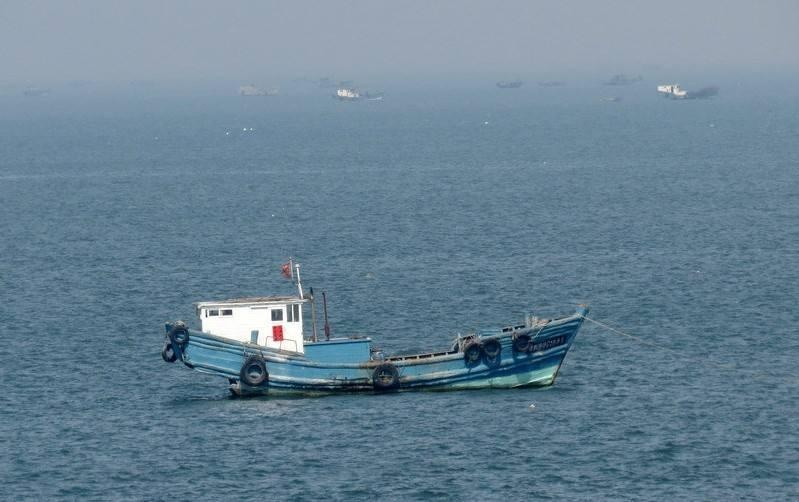otherboat: (157, 276, 597, 401), (333, 83, 391, 107)
